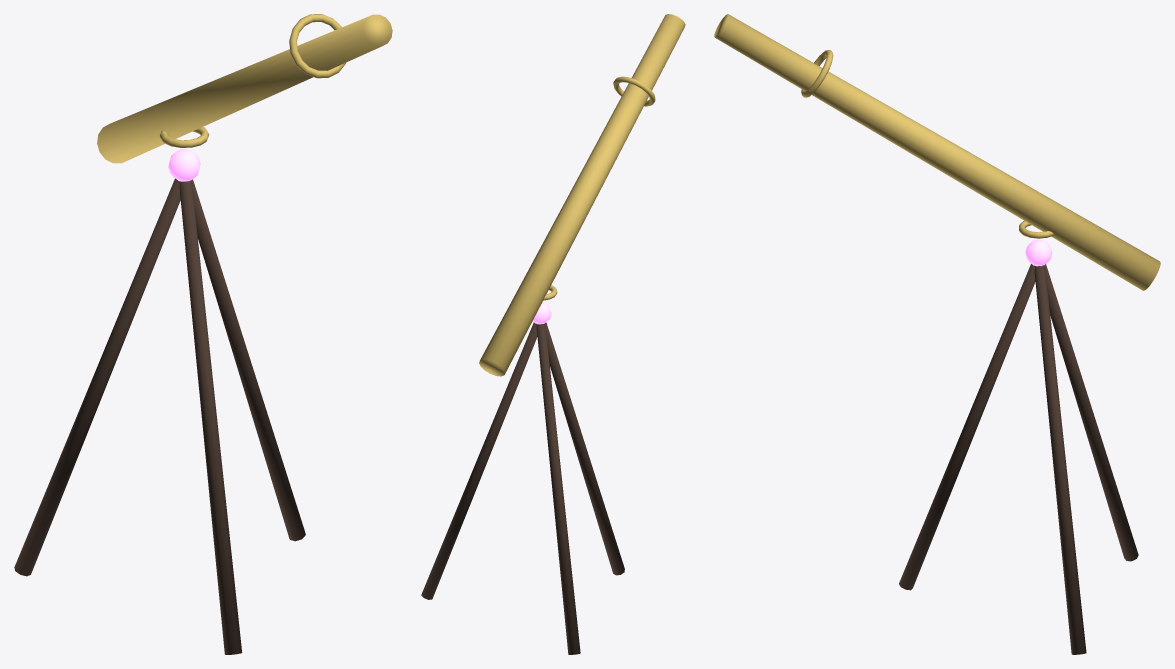
File: telescope_star_gazer.glb
3 renders of one model, left to right at view 1: azimuth 30°, elevation 25°; view 2: azimuth 150°, elevation 25°; view 3: azimuth 270°, elevation 25°, orthographic. The views are drawn at different scales.
Parts seen in each view (by area): view 1: GD_telescope_star_gazer__m0, GD_telescope_star_gazer__m1, GD_telescope_star_gazer__m2; view 2: GD_telescope_star_gazer__m1, GD_telescope_star_gazer__m0; view 3: GD_telescope_star_gazer__m1, GD_telescope_star_gazer__m0.
Part boxes in pixels (x1,y1,x2,y2): GD_telescope_star_gazer__m0: (14, 178, 305, 654); GD_telescope_star_gazer__m1: (97, 14, 392, 163); GD_telescope_star_gazer__m2: (168, 149, 200, 181); GD_telescope_star_gazer__m1: (479, 14, 685, 376); GD_telescope_star_gazer__m0: (421, 322, 624, 654); GD_telescope_star_gazer__m1: (714, 14, 1160, 290); GD_telescope_star_gazer__m0: (899, 264, 1138, 654).
Size of the model in its own units: 0.7177 by 1.9 by 1.31.
